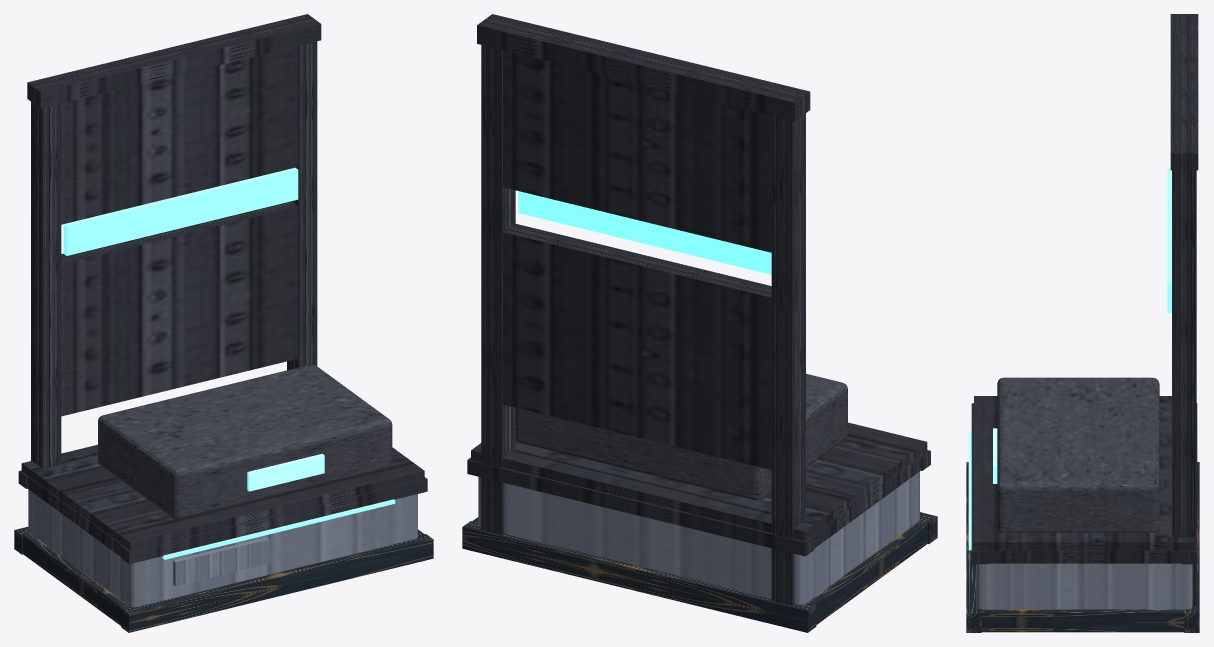
Rendered from cam_archivebox.glb.
The picture shows the model from 3 angles, left to right: view 1: azimuth 30°, elevation 25°; view 2: azimuth 150°, elevation 25°; view 3: azimuth 270°, elevation 25°; orthographic projection. The views are drawn at different scales.
Parts seen in each view (by area): view 1: sight_shell, box1, box0, lid0, sightglow, shelltoe0, shellrim0, shelltoes0, label0, label1, shellrims0, shellglow; view 2: sight_shell, box0, lid0, box1, shelltoe2, sightglow, shellrim2, shelltoes0, shellrims0; view 3: box1, sight_shell, box0, lid0, shelltoes2, shellrims2, shelltoe0, shelltoe2, sightglow, shellrim0, shellrim2, shellglow.
Boxes of the visible parts, <box> form: sight_shell: <box>27,14,321,468</box>; box1: <box>98,364,392,519</box>; box0: <box>28,489,417,607</box>; lid0: <box>21,444,424,550</box>; sightglow: <box>63,167,298,255</box>; shelltoe0: <box>121,534,433,632</box>; shellrim0: <box>121,477,427,564</box>; shelltoes0: <box>21,532,129,625</box>; label0: <box>173,537,269,586</box>; label1: <box>247,453,324,491</box>; shellrims0: <box>25,474,123,557</box>; shellglow: <box>162,499,395,559</box>; sight_shell: <box>477,14,810,605</box>; box0: <box>478,471,919,604</box>; lid0: <box>471,422,927,540</box>; box1: <box>515,373,847,500</box>; shelltoe2: <box>462,521,816,632</box>; sightglow: <box>518,191,771,274</box>; shellrim2: <box>467,457,814,556</box>; shelltoes0: <box>804,518,929,624</box>; shellrims0: <box>812,454,922,548</box>; box1: <box>997,377,1159,532</box>; sight_shell: <box>1170,14,1198,605</box>; box0: <box>976,563,1192,609</box>; lid0: <box>974,396,1194,550</box>; shelltoes2: <box>981,609,1184,632</box>; shellrims2: <box>983,550,1186,563</box>; shelltoe0: <box>966,462,981,632</box>; shelltoe2: <box>1184,462,1199,632</box>; sightglow: <box>1167,167,1171,313</box>; shellrim0: <box>971,403,986,564</box>; shellrim2: <box>1182,403,1197,564</box>; shellglow: <box>968,432,971,550</box>.
Bounding box in the file's own units: 1.17 × 1.7 × 0.76.
Materials: 7 (5 with a texture image).
